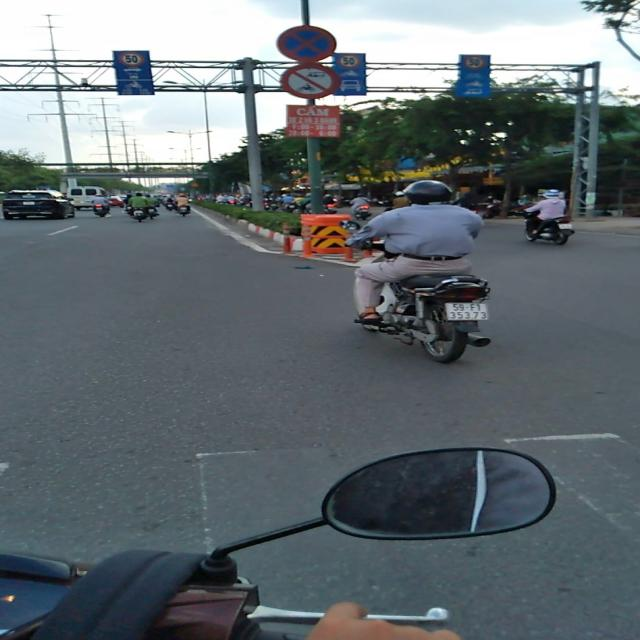Cam dung va do: (276, 25, 338, 63)
Toc do toi da: (118, 51, 145, 67), (338, 54, 360, 68), (463, 56, 485, 70)
